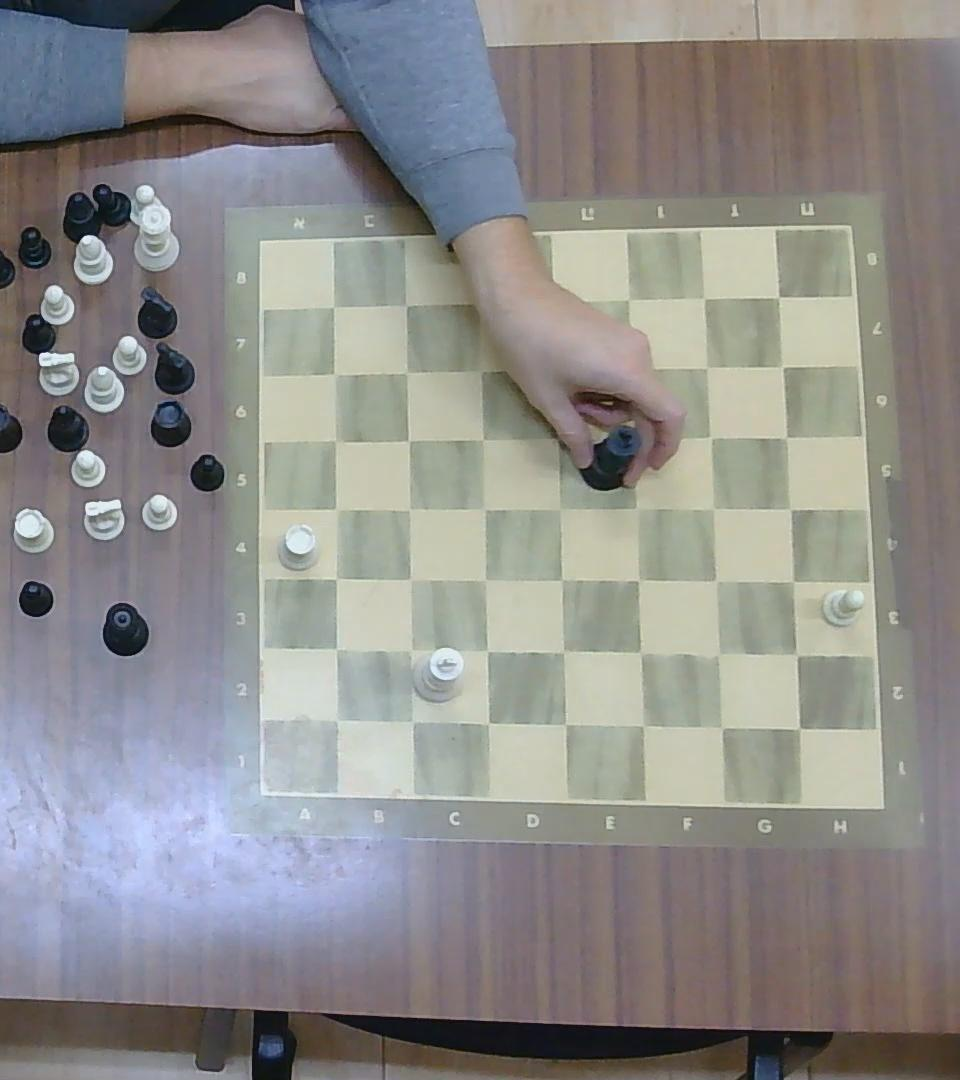xcorner: (701, 638, 734, 670), (471, 705, 502, 739), (548, 707, 579, 740), (704, 710, 735, 743), (625, 635, 656, 667), (782, 711, 813, 743), (626, 709, 657, 741), (621, 563, 653, 594), (546, 563, 578, 594), (320, 703, 351, 734), (548, 635, 578, 667), (395, 704, 425, 736), (781, 639, 812, 669), (394, 634, 425, 664), (536, 286, 566, 317), (621, 421, 651, 452), (471, 636, 501, 666), (317, 290, 347, 320), (700, 565, 730, 595), (320, 563, 350, 593), (391, 288, 420, 318), (776, 493, 806, 522), (698, 493, 728, 522), (470, 564, 500, 593), (394, 564, 424, 593), (768, 351, 798, 380), (460, 288, 489, 318), (543, 422, 573, 451), (777, 567, 806, 596), (321, 635, 350, 663), (623, 493, 651, 522), (691, 284, 720, 312), (470, 495, 499, 523), (615, 284, 643, 313), (469, 424, 497, 453), (395, 495, 423, 523), (538, 355, 566, 383), (546, 493, 573, 522), (466, 356, 495, 383), (772, 421, 801, 448), (693, 352, 722, 379), (320, 359, 349, 386), (765, 283, 793, 310), (698, 423, 725, 450), (321, 427, 349, 453), (322, 496, 350, 522), (617, 354, 642, 381), (394, 358, 420, 383), (395, 426, 421, 451)
